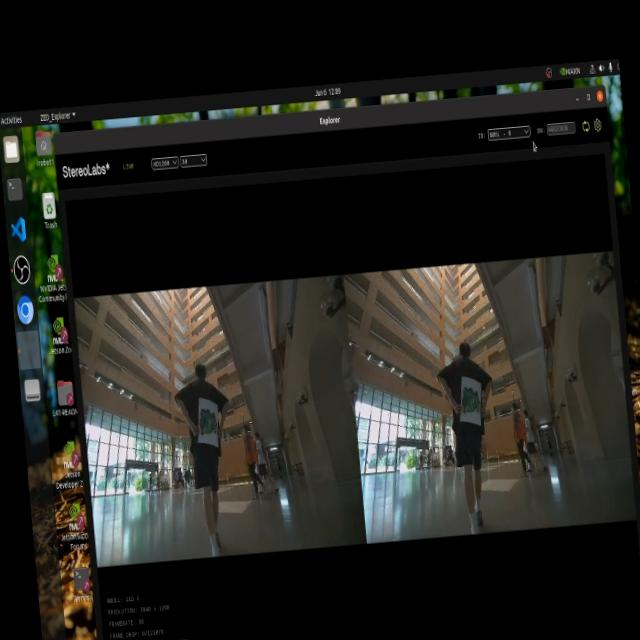green: (458, 390, 482, 418), (202, 408, 215, 444)
